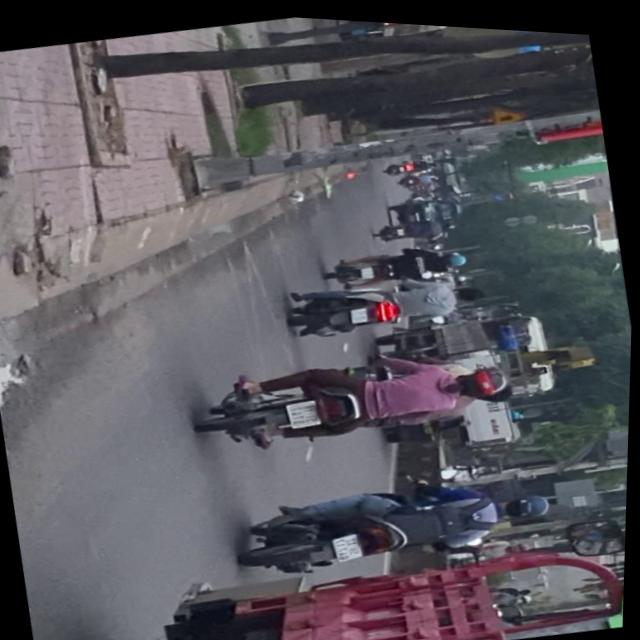helmet: (454, 357, 512, 399), (499, 482, 556, 521)
licenseplate: (191, 321, 520, 472), (233, 448, 562, 593), (282, 254, 491, 348)
motorcyclist: (454, 277, 487, 302)
nohelmet: (287, 395, 322, 425), (335, 528, 366, 558), (351, 302, 370, 320)
